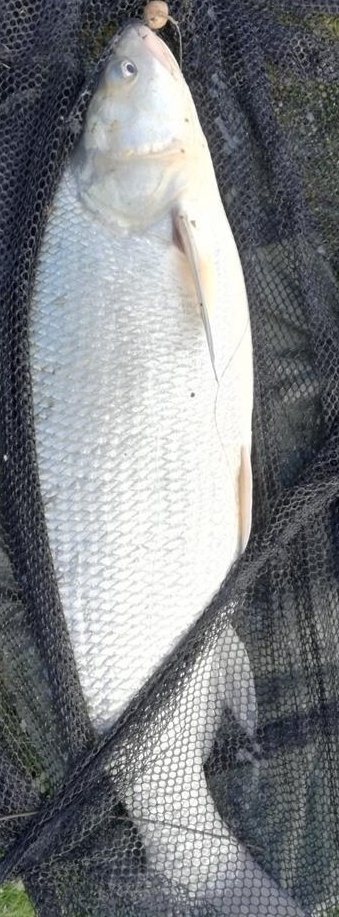Aspius aspius: (20, 20, 319, 917)
